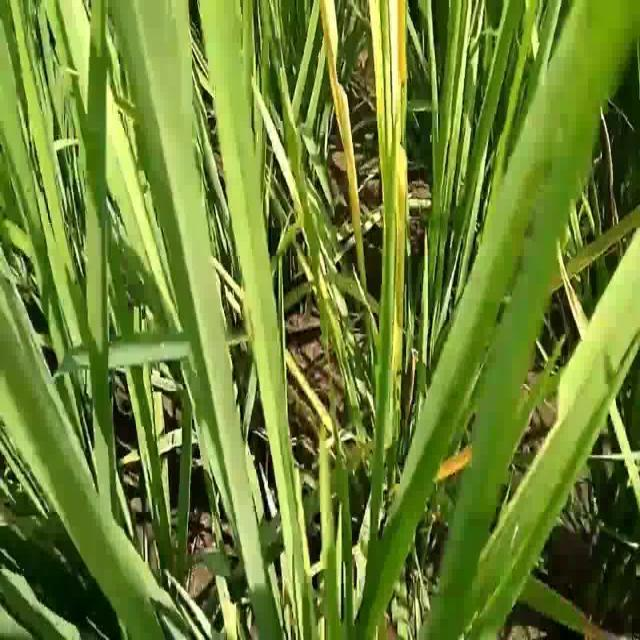Rice Tungro: (318, 4, 366, 238), (367, 1, 413, 235)
